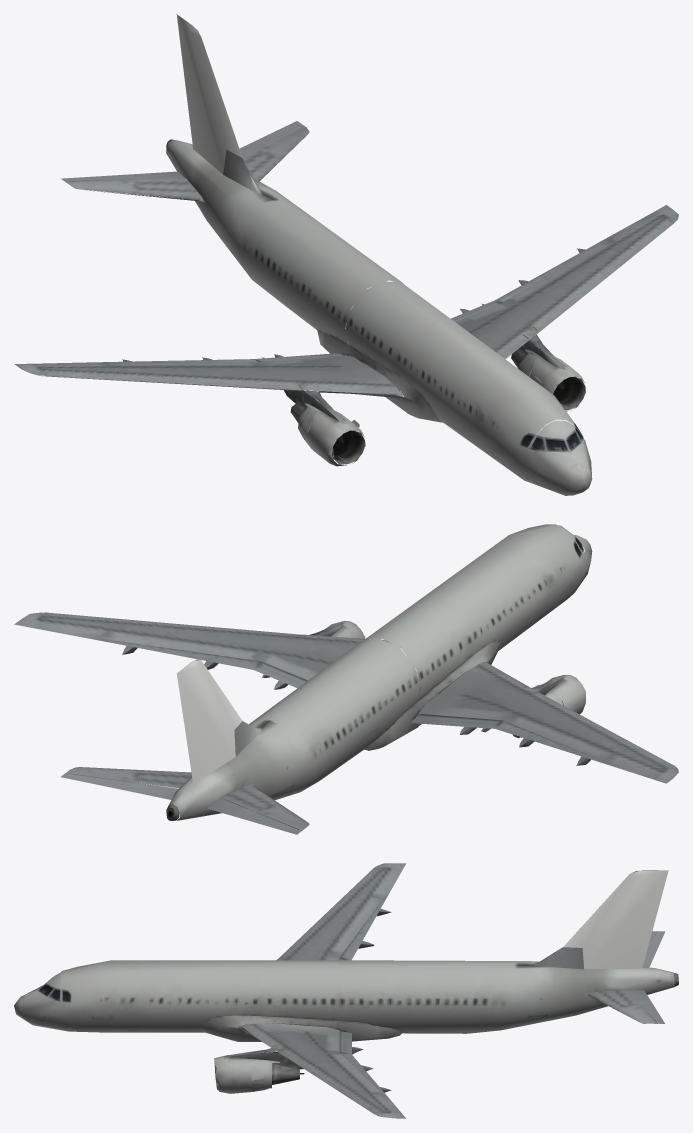
The model's file is airliner_a320_lod1.glb.
3 renders of one model, top to bottom at view 1: azimuth 30°, elevation 25°; view 2: azimuth 150°, elevation 25°; view 3: azimuth 270°, elevation 25°, orthographic. The views are drawn at different scales.
Parts seen in each view (by area): view 1: LOD1; view 2: LOD1; view 3: LOD1.
Boxes of the visible parts, x1,y1,x2,y2 form: LOD1: [14, 14, 678, 495]; LOD1: [14, 524, 678, 834]; LOD1: [14, 863, 678, 1118].
Bounding box in the file's own units: 34.16 × 11.16 × 37.6.
Materials: 3 (2 with a texture image).
